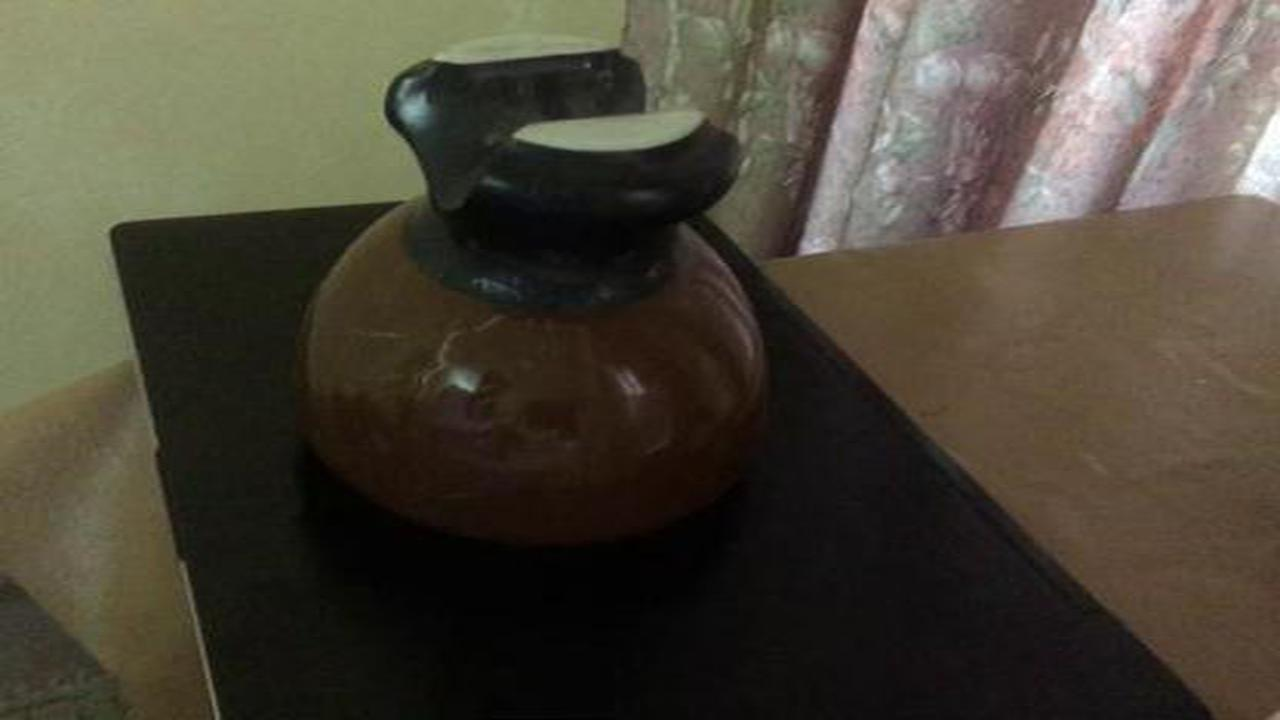insulator_pin: (287, 30, 810, 577)
